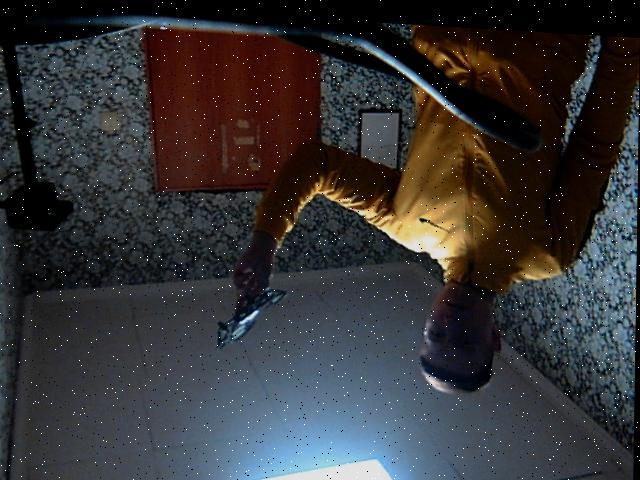drone: (209, 265, 311, 357)
